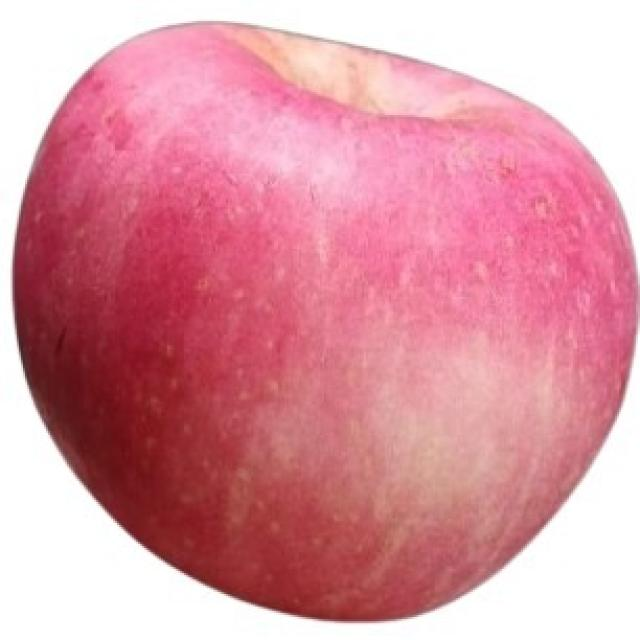100-_ripeness: (20, 36, 623, 611)
